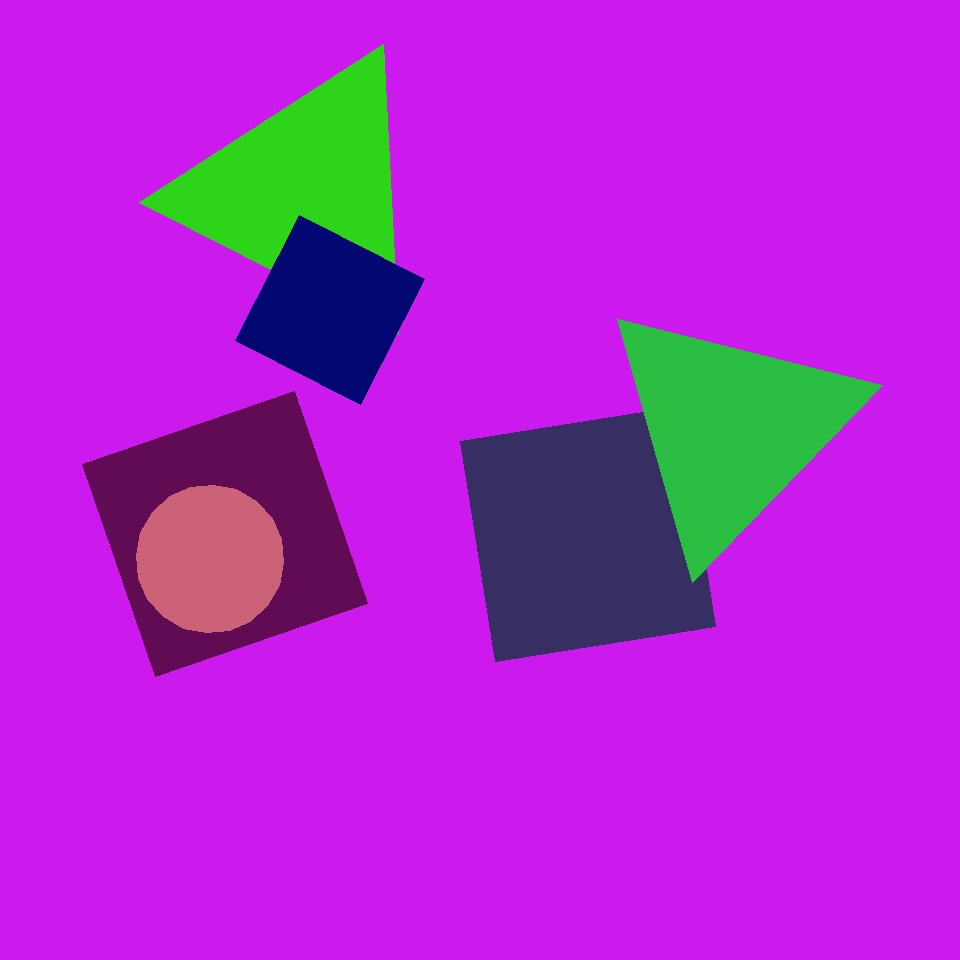circle: (177, 49, 436, 339), (598, 298, 864, 560), (428, 669, 659, 936), (468, 207, 614, 338)
square: (82, 392, 368, 676), (461, 406, 716, 662), (548, 145, 761, 358), (236, 216, 424, 404)
triangle: (178, 385, 421, 629), (136, 486, 284, 632), (540, 554, 681, 694)
